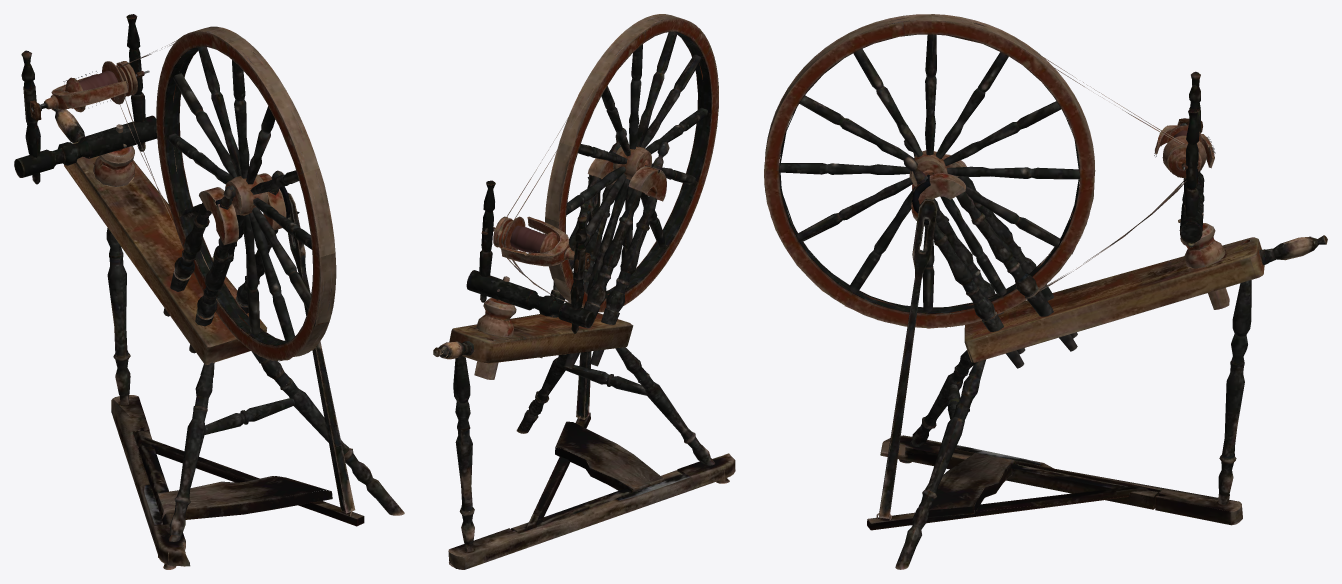
Rendered from spinning.glb.
The picture shows the model from 3 angles, left to right: view 1: azimuth 30°, elevation 25°; view 2: azimuth 150°, elevation 25°; view 3: azimuth 270°, elevation 25°; orthographic projection. The views are drawn at different scales.
Visible parts, largest first — view 1: spinning_wheel_01; view 2: spinning_wheel_01; view 3: spinning_wheel_01.
Boxes of the visible parts, x1,y1,x2,y2 form: spinning_wheel_01: (14,14,404,569); spinning_wheel_01: (433,14,735,569); spinning_wheel_01: (764,14,1327,569).
Bounding box in the file's own units: 0.4901 × 0.9659 × 1.02.
1 material, 1 textured.
